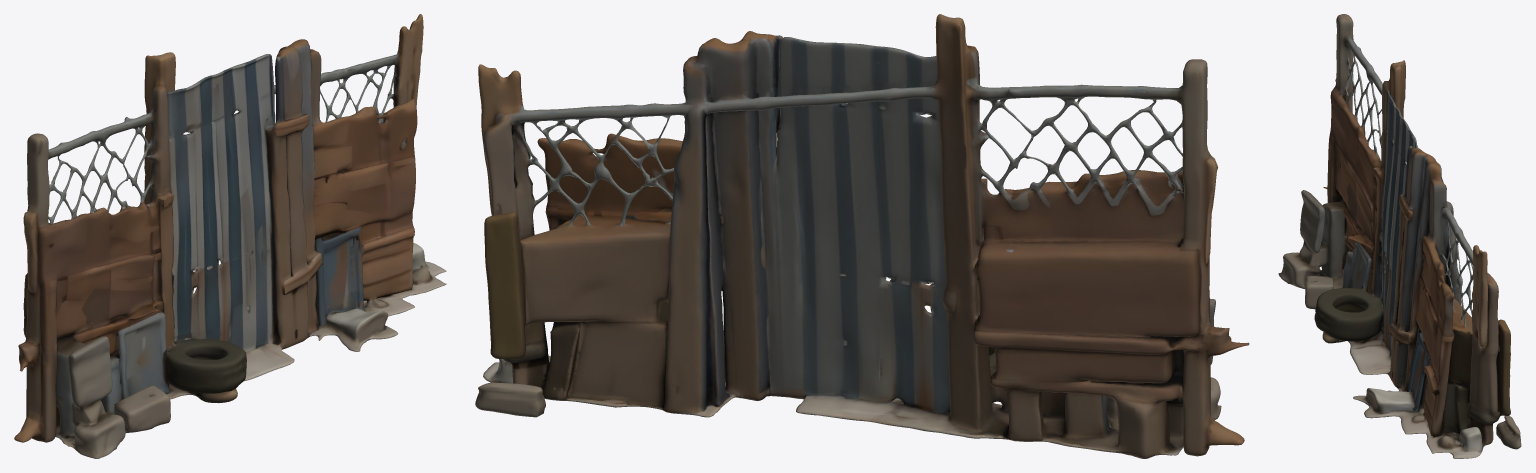
Rendered from SM_Prop_ImprovisedBarrier_01.fbx.
3 views of the same model, side by side, from view 1: azimuth 30°, elevation 25°; view 2: azimuth 150°, elevation 25°; view 3: azimuth 270°, elevation 25° (orthographic). The views are drawn at different scales.
Visible parts, largest first — view 1: SM_Prop_ImprovisedBarrier_01; view 2: SM_Prop_ImprovisedBarrier_01; view 3: SM_Prop_ImprovisedBarrier_01.
Part boxes in pixels (<box>): SM_Prop_ImprovisedBarrier_01: <box>14,14,446,458</box>; SM_Prop_ImprovisedBarrier_01: <box>475,14,1249,458</box>; SM_Prop_ImprovisedBarrier_01: <box>1278,14,1521,458</box>.
Bounding box in the file's own units: 0.9931 × 0.6083 × 0.4975.
1 material, 1 textured.
